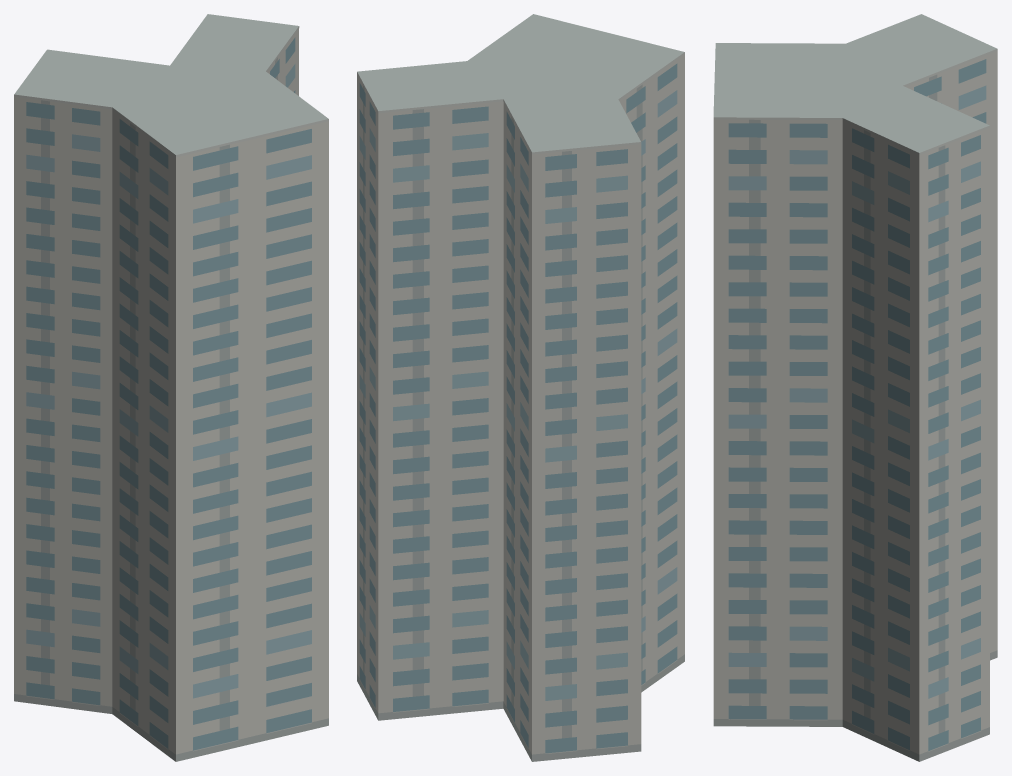
The model's file is residential-8f91cf92-a9d1-4471-b65f-c20cfbb4b439.glb.
3 renders of one model, left to right at view 1: azimuth 30°, elevation 25°; view 2: azimuth 150°, elevation 25°; view 3: azimuth 270°, elevation 25°, orthographic.
Visible parts, largest first — view 1: residential-8f91cf92-a9d1-4471-b65f-c20cfbb4b439.tmp; view 2: residential-8f91cf92-a9d1-4471-b65f-c20cfbb4b439.tmp; view 3: residential-8f91cf92-a9d1-4471-b65f-c20cfbb4b439.tmp.
Boxes of the visible parts, x1,y1,x2,y2 form: residential-8f91cf92-a9d1-4471-b65f-c20cfbb4b439.tmp: (14, 14, 328, 761); residential-8f91cf92-a9d1-4471-b65f-c20cfbb4b439.tmp: (357, 14, 684, 761); residential-8f91cf92-a9d1-4471-b65f-c20cfbb4b439.tmp: (713, 14, 997, 761).
Size of the model in its own units: 32.33 by 66 by 27.91.
